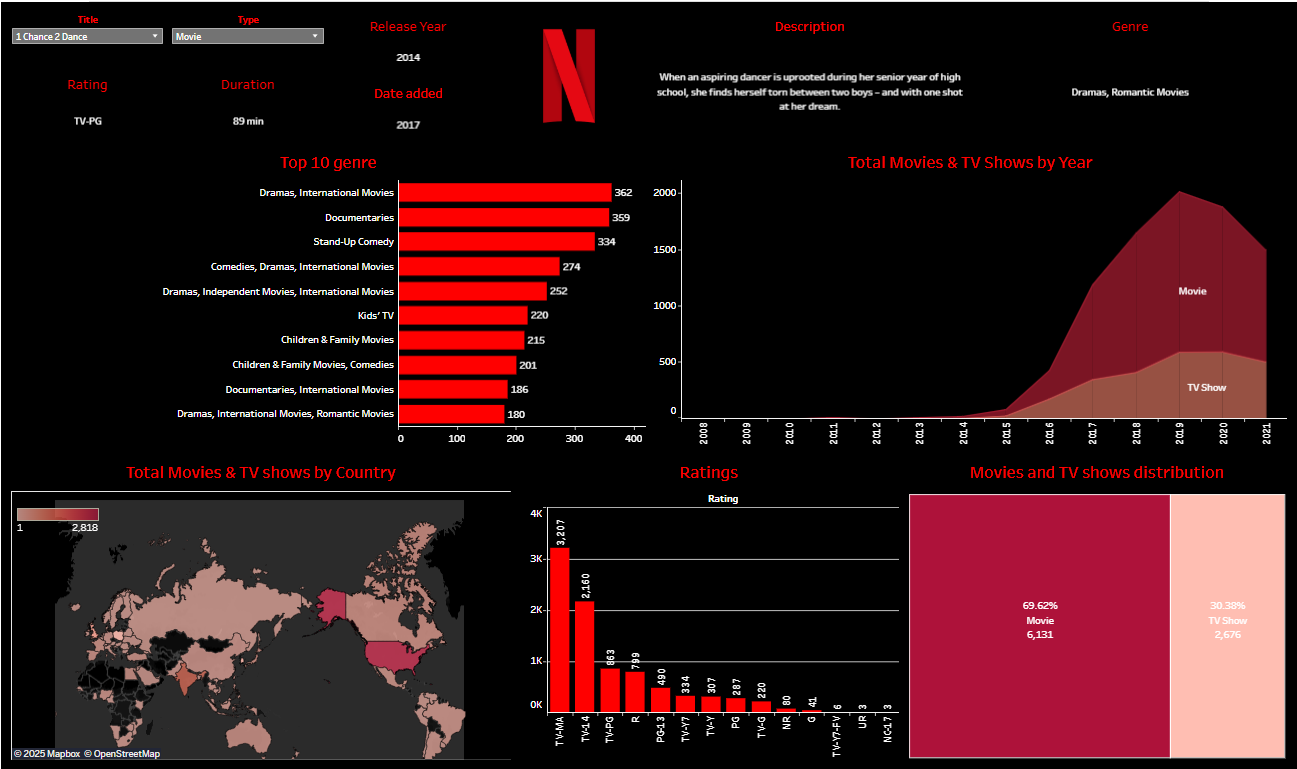

The dashboard page shown, as its layout file describes it:
{"tool":"tableau","page":{"name":"Dashboard 1","canvas":[1000,1000],"units":"permille","ordinal":0},"visuals":[{"type":"filter","title":"Description","param":"[federated.0qiu5di1iqk4zp1an5yvp0qlzyq1].[none:title:nk]","box":[5,8.3,123.7,76]},{"type":"filter","title":"Description","param":"[federated.0qiu5di1iqk4zp1an5yvp0qlzyq1].[none:type:nk]","box":[128.7,8.3,123.8,76]},{"type":"worksheet","title":"Release Year","mark":"Automatic","box":[252.5,8.3,123.7,87.5]},{"type":"image","param":"Image/Netflix-Symbol.png","box":[376.2,8.3,123.8,175]},{"type":"worksheet","title":"Description","mark":"Automatic","box":[499.9,8.3,247.5,175]},{"type":"worksheet","title":"Genre","mark":"Automatic","box":[747.5,8.3,247.5,175]},{"type":"worksheet","title":"Rating","mark":"Automatic","box":[5,84.4,123.7,99]},{"type":"worksheet","title":"Duration","mark":"Automatic","box":[128.7,84.4,123.8,99]},{"type":"worksheet","title":"Date added","mark":"Automatic","box":[252.5,95.8,123.7,87.5]},{"type":"worksheet","title":"Top 10 genre","mark":"Automatic","rows":["listed_in"],"cols":["show_id"],"box":[5,183.3,494.9,404.2]},{"type":"worksheet","title":"Total Movies & TV Shows by Year","mark":"Area","rows":["show_id"],"cols":["date_added"],"box":[499.9,183.3,495.1,404.2]},{"type":"worksheet","title":"Total Movies & TV shows by Country","mark":"Multipolygon","box":[5,587.5,391.5,404.2]},{"type":"worksheet","title":"Ratings","mark":"Automatic","rows":["show_id"],"cols":["rating"],"box":[396.5,587.5,299.2,404.2]},{"type":"worksheet","title":"Movies and TV shows distribution","mark":"Automatic","box":[695.7,587.5,299.3,404.2]},{"type":"legend","title":"Total Movies & TV shows by Country","param":"[federated.0qiu5di1iqk4zp1an5yvp0qlzyq1].[ctd:show_id:qk]","box":[9.9,654.2,68.1,46.9]}]}

Visuals, with their boxes on the dashboard's canvas, which has no fixed pixel size, in thousandths of its width and height (x1, y1, x2, y2). These are canvas units, not pixel positions in the 1297x769 screenshot, which may show the page scaled, cropped or inside an application window:
"Description" filter: rect(5, 8, 129, 84)
"Description" filter: rect(129, 8, 252, 84)
"Release Year" worksheet: rect(252, 8, 376, 96)
image: rect(376, 8, 500, 183)
"Description" worksheet: rect(500, 8, 747, 183)
"Genre" worksheet: rect(748, 8, 995, 183)
"Rating" worksheet: rect(5, 84, 129, 183)
"Duration" worksheet: rect(129, 84, 252, 183)
"Date added" worksheet: rect(252, 96, 376, 183)
"Top 10 genre" worksheet: rect(5, 183, 500, 588)
"Total Movies & TV Shows by Year" worksheet (Area marks): rect(500, 183, 995, 588)
"Total Movies & TV shows by Country" worksheet (Multipolygon marks): rect(5, 588, 396, 992)
"Ratings" worksheet: rect(396, 588, 696, 992)
"Movies and TV shows distribution" worksheet: rect(696, 588, 995, 992)
"Total Movies & TV shows by Country" legend: rect(10, 654, 78, 701)
